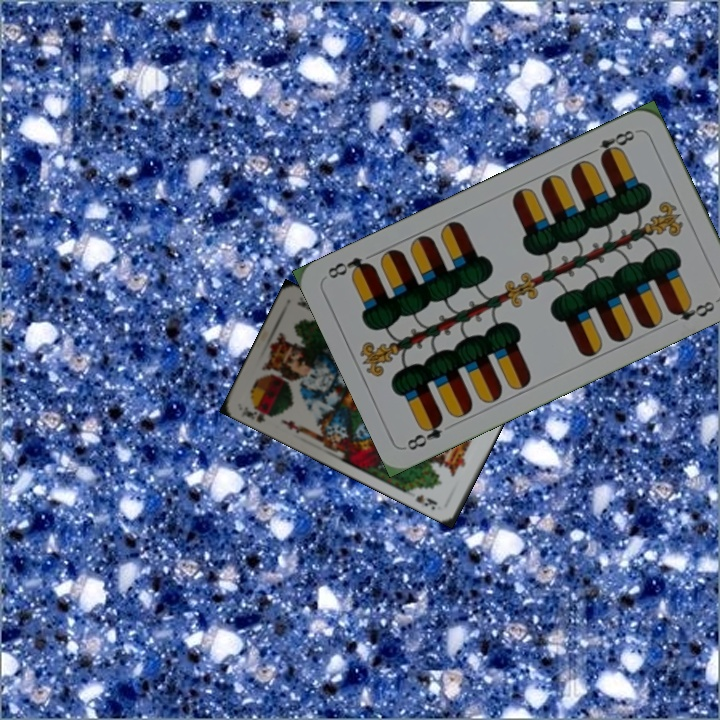E8: (403, 414, 458, 453), (584, 126, 638, 163)
SK: (242, 403, 276, 425)
